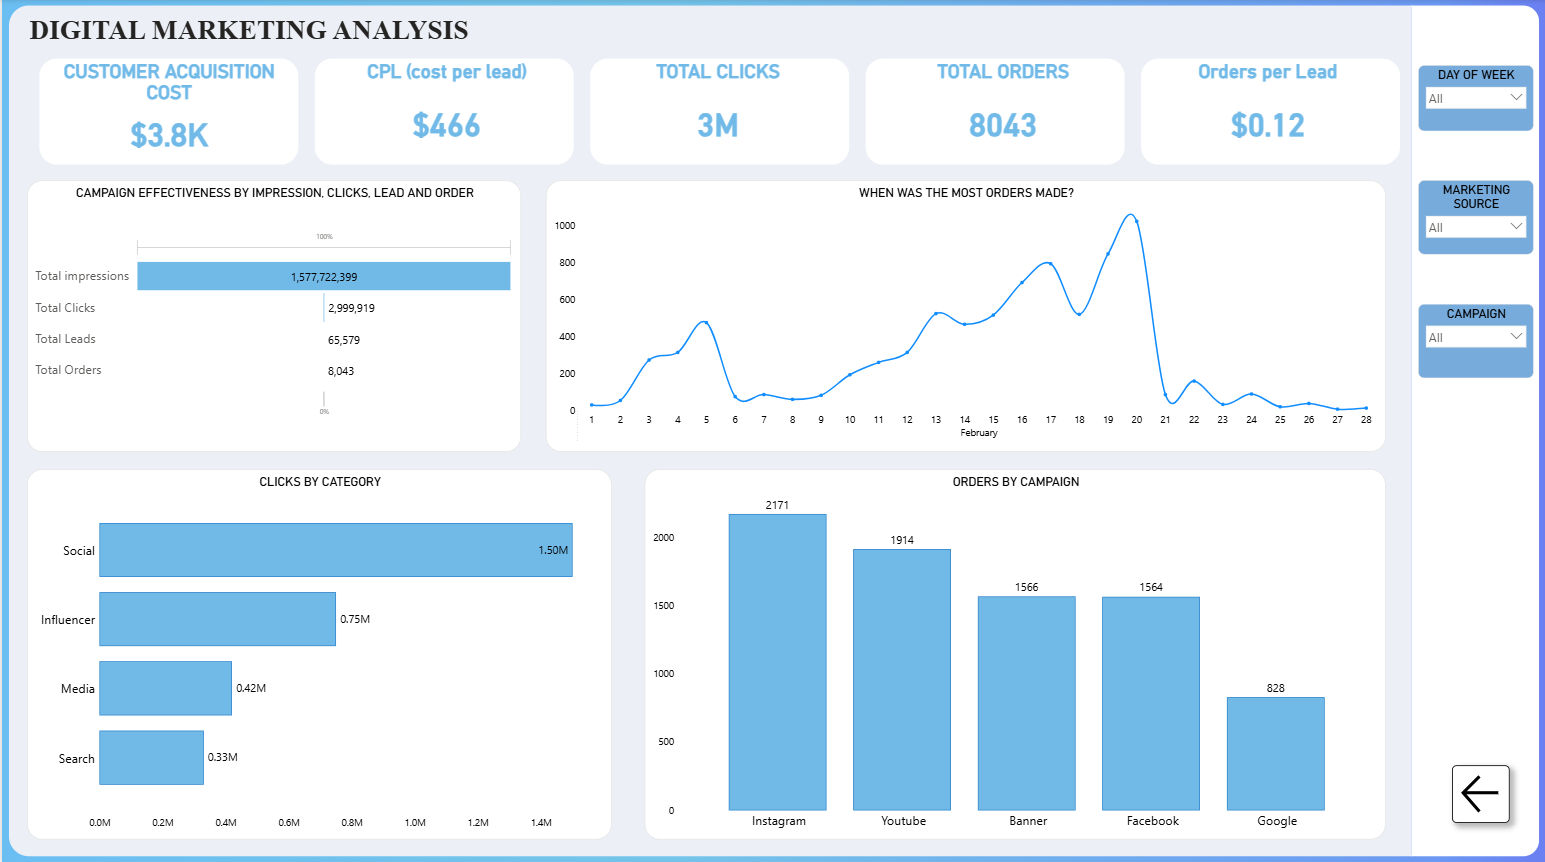

This screenshot's page, from the dashboard's own definition file:
{"tool":"powerbi","page":{"name":"Page 2","canvas":[3000,1687],"ordinal":1},"visuals":[{"type":"card","title":"TOTAL CLICKS","fields":{"Values":["KPIs.Total Clicks"]},"box":[1152,120,480,192],"z":0},{"type":"card","title":"CPL (cost per lead)","fields":{"Values":["KPIs.Cost per Lead"]},"box":[624,120,480,192],"z":1000},{"type":"card","title":"CUSTOMER ACQUISITION COST","fields":{"Values":["KPIs.Customer acquisition Cost"]},"box":[72,120,504,192],"z":2000},{"type":"card","title":"TOTAL ORDERS","fields":{"Values":["KPIs.Total Orders"]},"box":[1728,120,432,192],"z":3000},{"type":"card","title":"Orders per Lead","fields":{"Values":["KPIs.CR2(Orders per Lead)"]},"box":[2208,120,504,192],"z":4000},{"type":"funnel","title":"CAMPAIGN EFFECTIVENESS BY IMPRESSION, CLICKS, LEAD AND ORDER","fields":{"Y":["KPIs.Total impressions","KPIs.Total Clicks","KPIs.Total Leads","KPIs.Total Orders"]},"box":[48,352,960,528],"z":5000},{"type":"clusteredColumnChart","title":"ORDERS BY CAMPAIGN","fields":{"Y":["KPIs.Total Orders"],"Category":["Marketing.Campaign Name"]},"box":[1248,912,1440,720],"z":6000},{"type":"barChart","title":"CLICKS BY CATEGORY","fields":{"Y":["KPIs.Total Clicks"],"Category":["Marketing.Category Source"]},"box":[48,912,1136,720],"z":7000},{"type":"lineChart","title":"WHEN WAS THE MOST ORDERS MADE?","fields":{"Category":["Marketing.Campaign Date.Variation.Date Hierarchy.Month","Marketing.Campaign Date.Variation.Date Hierarchy.Day"],"Y":["KPIs.Total Orders"]},"box":[1056,352,1632,528],"z":8000},{"type":"textbox","box":[0,24,960,72],"z":9000},{"type":"actionButton","box":[2816,1488,112,112],"z":10000},{"type":"slicer","title":"DAY OF WEEK","fields":{"Values":["Marketing.Day Name"]},"box":[2752,128,224,128],"z":11000},{"type":"slicer","title":"MARKETING SOURCE","fields":{"Values":["Marketing.Category Source"]},"box":[2752,352,224,144],"z":12000},{"type":"slicer","title":"CAMPAIGN","fields":{"Values":["Marketing.Campaign Name"]},"box":[2752,592,224,144],"z":13000}]}

Visuals, with their boxes in screenshot pixels (x1, y1, x2, y2), scaled from the page's 3000x1687 canvas onto the 1545x862 screenshot:
"TOTAL CLICKS" card: locate(593, 61, 840, 159)
"CPL (cost per lead)" card: locate(321, 61, 569, 159)
"CUSTOMER ACQUISITION COST" card: locate(37, 61, 297, 159)
"TOTAL ORDERS" card: locate(890, 61, 1112, 159)
"Orders per Lead" card: locate(1137, 61, 1397, 159)
"CAMPAIGN EFFECTIVENESS BY IMPRESSION, CLICKS, LEAD AND ORDER" funnel: locate(25, 180, 519, 450)
"ORDERS BY CAMPAIGN" clusteredColumnChart: locate(643, 466, 1384, 834)
"CLICKS BY CATEGORY" barChart: locate(25, 466, 610, 834)
"WHEN WAS THE MOST ORDERS MADE?" lineChart: locate(544, 180, 1384, 450)
textbox: locate(0, 12, 494, 49)
actionButton: locate(1450, 760, 1508, 818)
"DAY OF WEEK" slicer: locate(1417, 65, 1533, 131)
"MARKETING SOURCE" slicer: locate(1417, 180, 1533, 253)
"CAMPAIGN" slicer: locate(1417, 302, 1533, 376)
